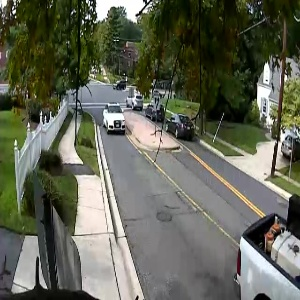car: (164, 113, 199, 145), (278, 136, 300, 162)
suv: (100, 100, 131, 138)
